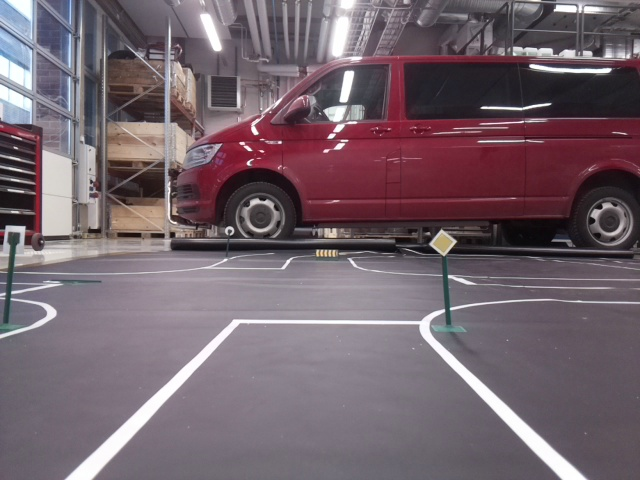Priority: (429, 229, 457, 255)
